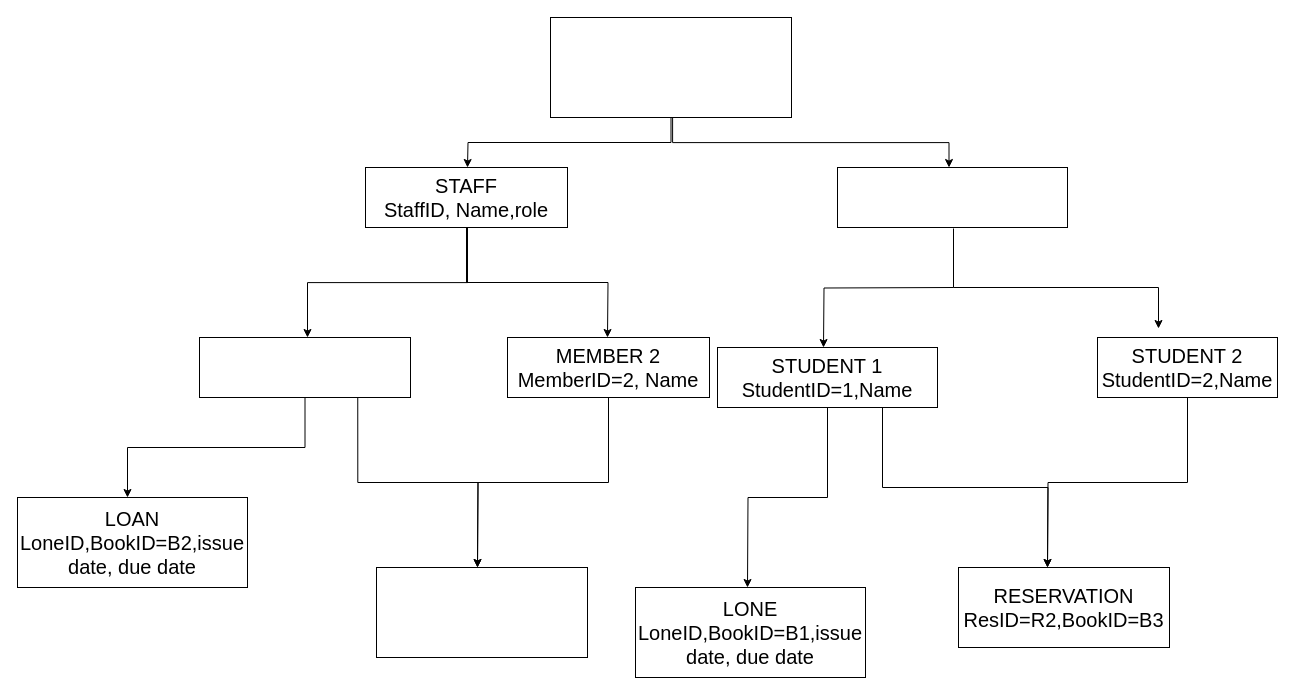
Some shapes in this 1295 by 695 pixel diagram are drawn without their labels. Each missing label, with the centre of its shape:
"LIBARY LibraryID ,name, Address" belongs at (x=671, y=67).
"MEMBER 1 MemberID=1, Name" belongs at (x=304, y=367).
"RESERVATION ResID=R1,BookID=B1" belongs at (x=482, y=612).
"STUDENT StudentID, Name, role" belongs at (x=952, y=197).
